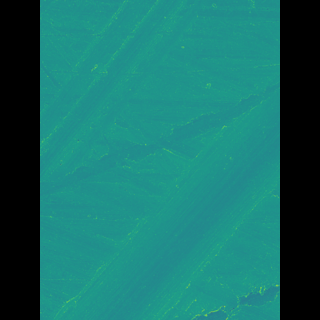Loch: (77, 82, 250, 319), (68, 0, 190, 192)
